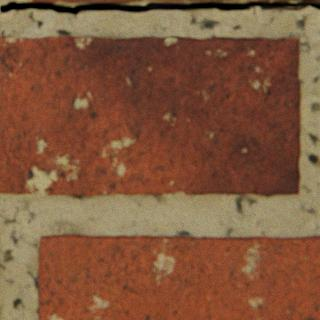brick: (0, 36, 299, 195), (38, 233, 319, 319), (32, 0, 142, 2), (155, 0, 206, 1)
crack: (0, 0, 319, 15)
